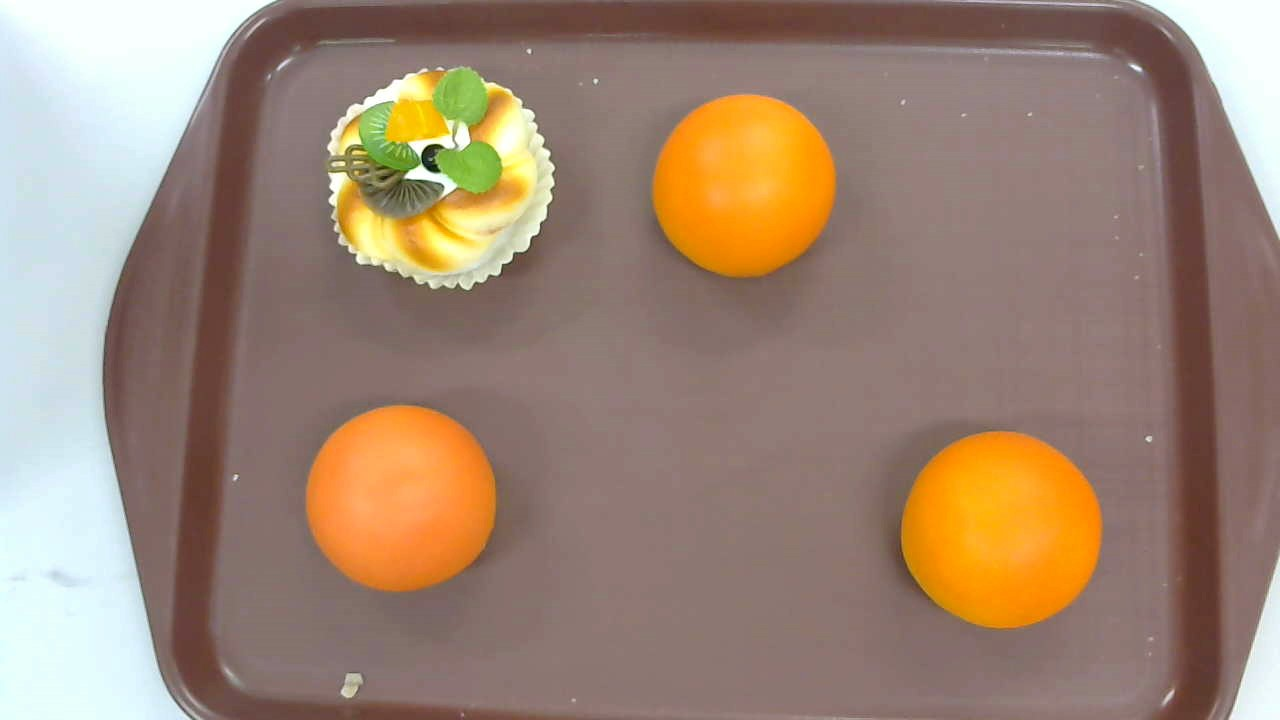bun: (900, 429, 1103, 630), (306, 405, 497, 591), (650, 94, 835, 278)
fruit tart: (326, 66, 558, 295)
